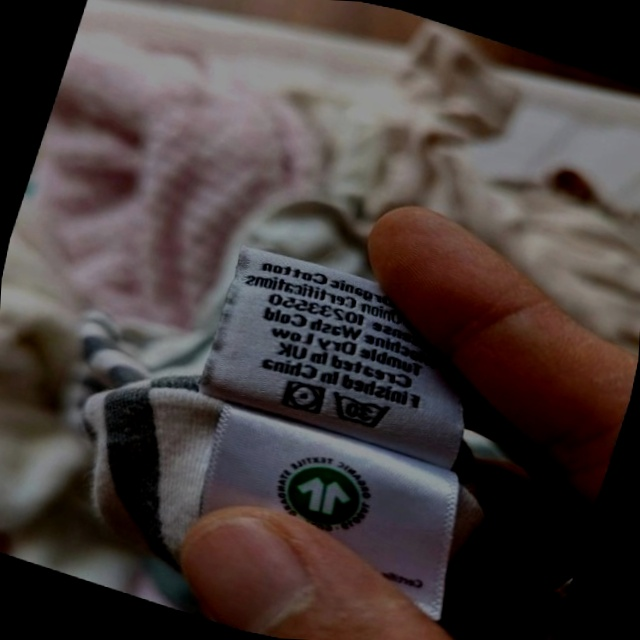30C: (322, 384, 399, 438)
tumble_dry_low: (276, 373, 331, 422)
